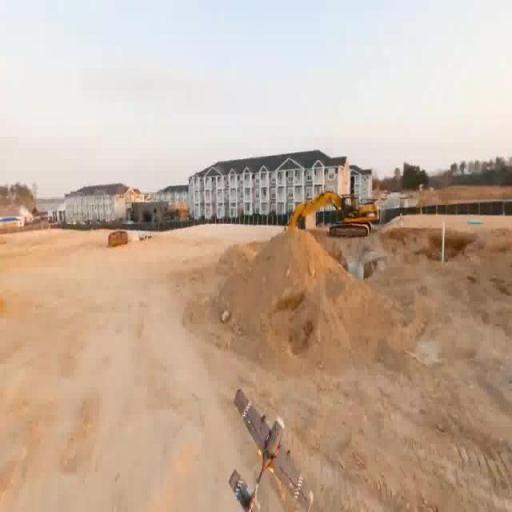uav: (225, 380, 317, 510)
